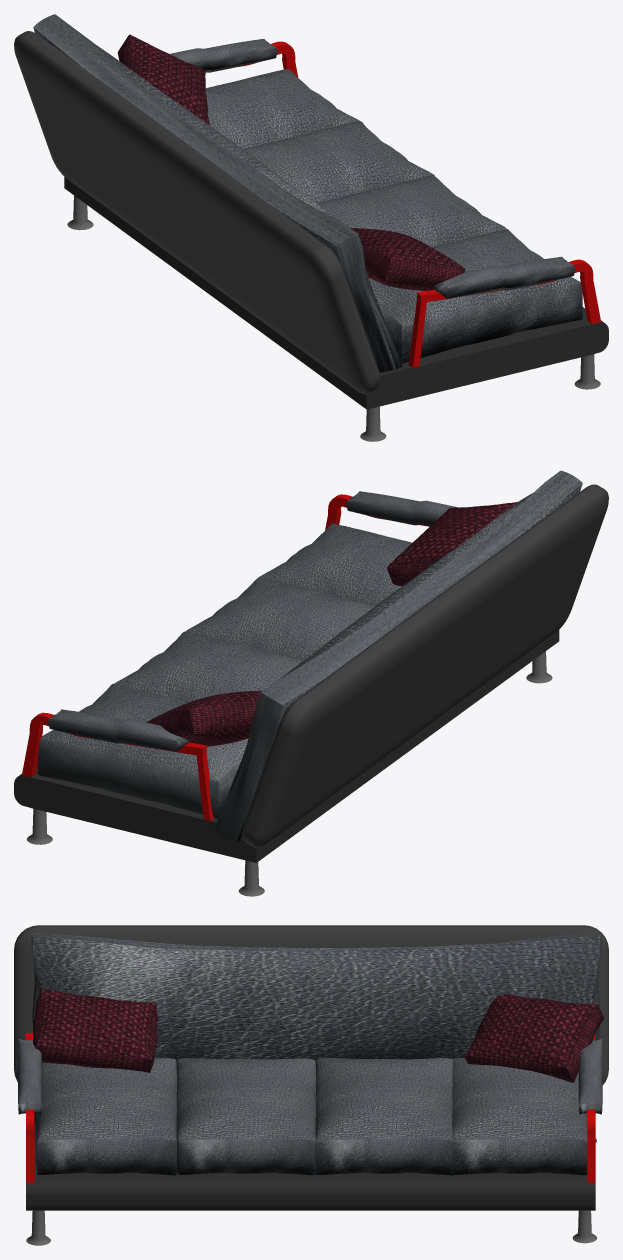
File: sofa_new1.glb
The picture shows the model from 3 angles, top to bottom: view 1: azimuth 30°, elevation 25°; view 2: azimuth 150°, elevation 25°; view 3: azimuth 270°, elevation 25°; orthographic projection. The views are drawn at different scales.
Visible parts, largest first — view 1: pCube24; view 2: pCube24; view 3: pCube24.
Boxes of the visible parts, x1=… form: pCube24: x1=14, y1=14, x2=608, y2=441; pCube24: x1=14, y1=470, x2=608, y2=896; pCube24: x1=14, y1=925, x2=608, y2=1245.
Size of the model in its own units: 54.81 by 37.49 by 103.
7 materials, 3 textured.
